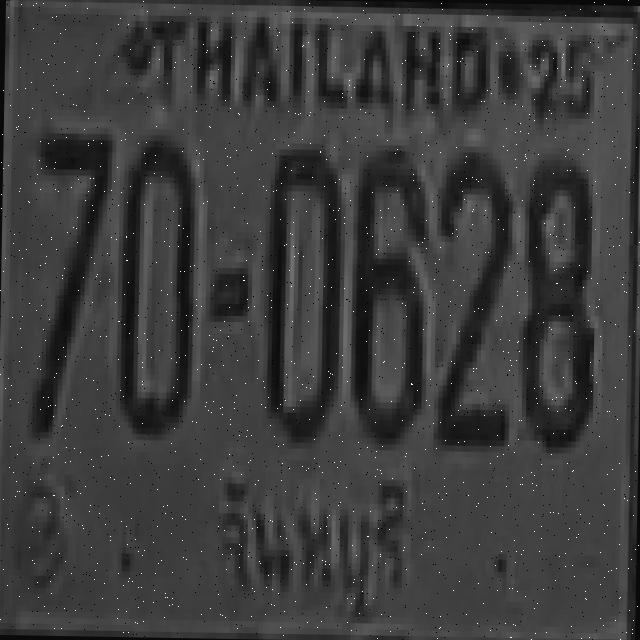0: (261, 146, 342, 440), (118, 131, 194, 431)
2: (429, 148, 509, 436), (434, 146, 509, 404)
6: (345, 144, 426, 438)
7: (29, 126, 110, 426), (33, 130, 108, 334)
8: (516, 153, 592, 447)
Chanthaburi: (205, 464, 420, 622)
